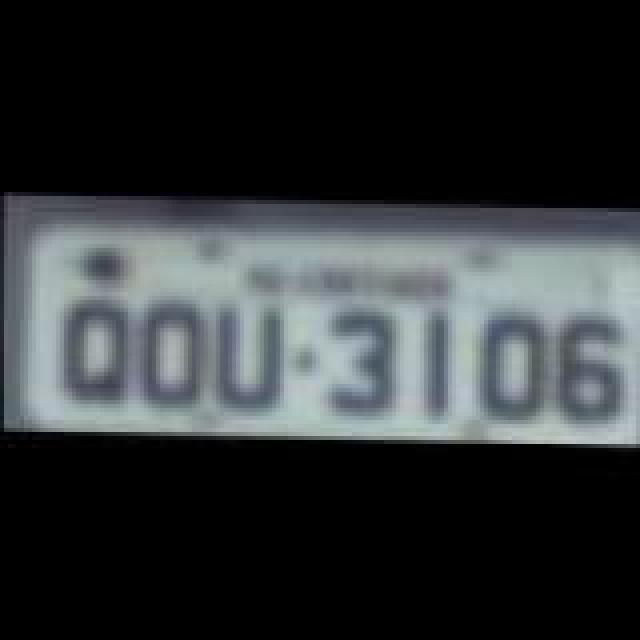1: (424, 306, 460, 418)
3: (326, 308, 398, 416)
6: (552, 312, 620, 424)
O: (138, 298, 210, 410), (478, 314, 550, 426)
Q: (62, 298, 134, 406)
U: (216, 298, 284, 410)
